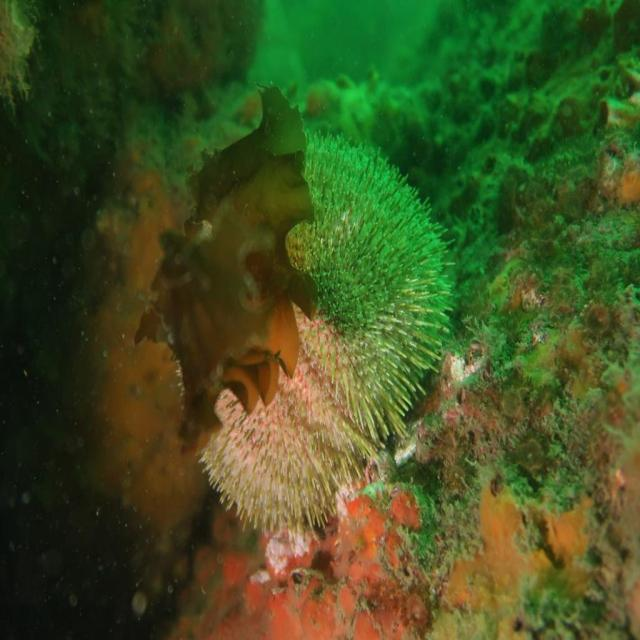Deniz Kestanesi: (170, 126, 454, 534)
